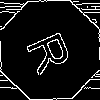R: (25, 25, 82, 77)
